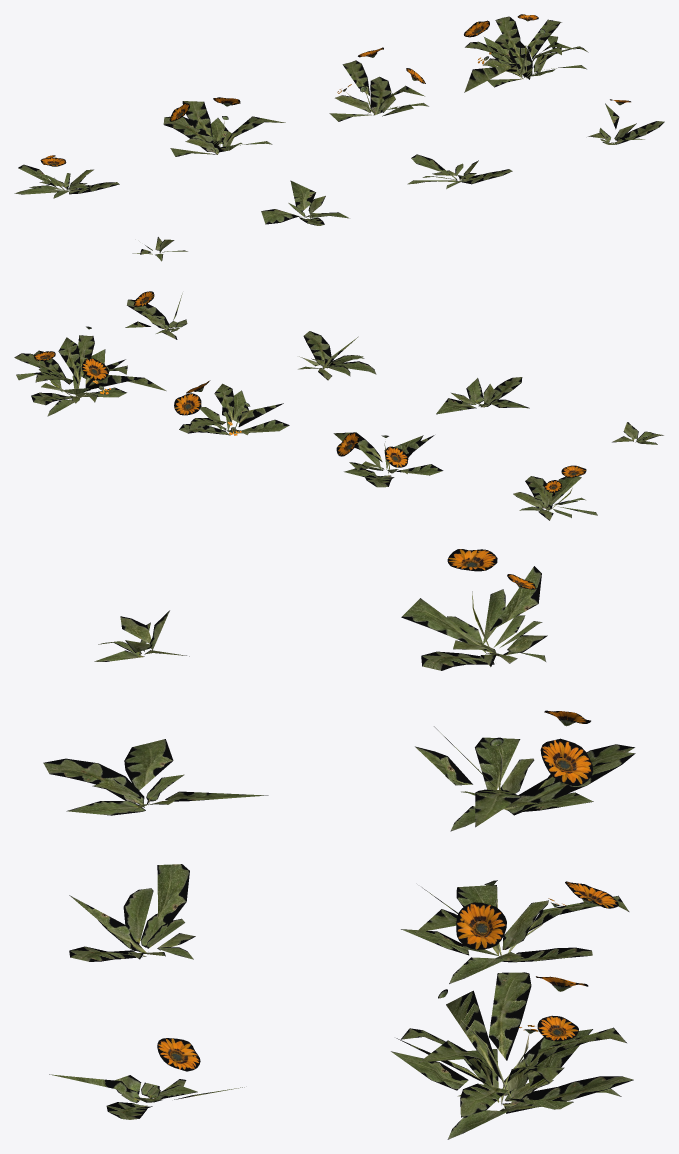
Rendered from flower_gazania.glb.
3 renders of one model, top to bottom at view 1: azimuth 30°, elevation 25°; view 2: azimuth 150°, elevation 25°; view 3: azimuth 270°, elevation 25°, orthographic. The views are drawn at different scales.
Parts seen in each view (by area): view 1: flower_gazania_a_LOD0; view 2: flower_gazania_a_LOD0; view 3: flower_gazania_a_LOD0.
Boxes of the visible parts, x1=… form: flower_gazania_a_LOD0: x1=14, y1=14, x2=664, y2=261; flower_gazania_a_LOD0: x1=14, y1=291, x2=663, y2=520; flower_gazania_a_LOD0: x1=43, y1=549, x2=635, y2=1139.
Size of the model in its own units: 1.48 by 0.1547 by 0.6734.
Materials: 1 (1 with a texture image).
